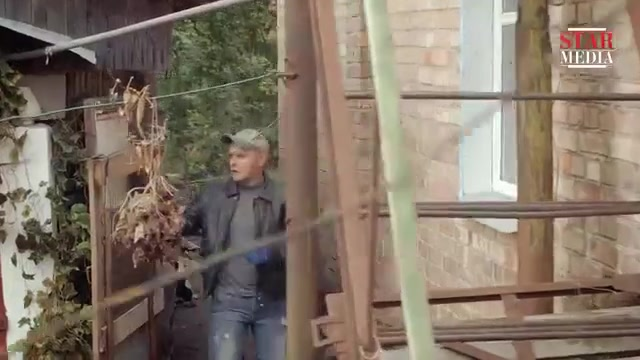Marcher: (165, 128, 287, 359)
